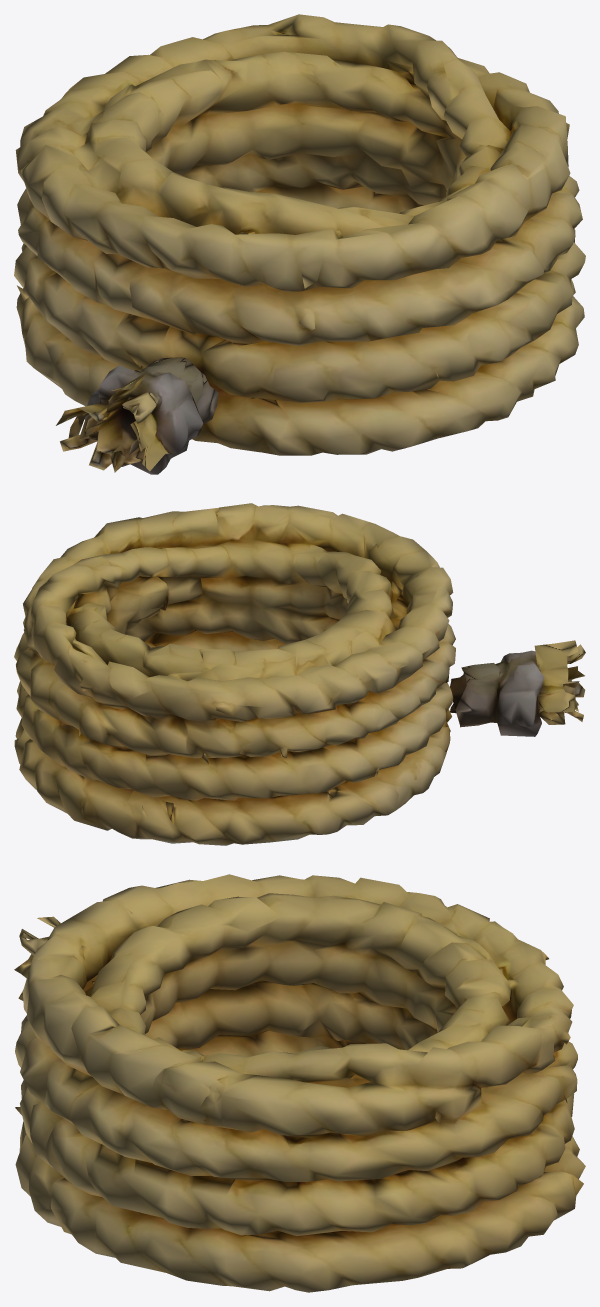
Rendered from prop-ropecoil.glb.
3 views of the same model, one above another, from view 1: azimuth 30°, elevation 25°; view 2: azimuth 150°, elevation 25°; view 3: azimuth 270°, elevation 25° (orthographic). The views are drawn at different scales.
Visible parts, largest first — view 1: tripo_node_dea6e9ce-753e-4606-b8c9-446d5588501d; view 2: tripo_node_dea6e9ce-753e-4606-b8c9-446d5588501d; view 3: tripo_node_dea6e9ce-753e-4606-b8c9-446d5588501d.
Part boxes in pixels (x1=…): tripo_node_dea6e9ce-753e-4606-b8c9-446d5588501d: x1=14, y1=14, x2=585, y2=474; tripo_node_dea6e9ce-753e-4606-b8c9-446d5588501d: x1=14, y1=503, x2=585, y2=845; tripo_node_dea6e9ce-753e-4606-b8c9-446d5588501d: x1=14, y1=874, x2=585, y2=1292.
Bounding box in the file's own units: 1 × 0.3835 × 0.8622.
1 material, 1 textured.
